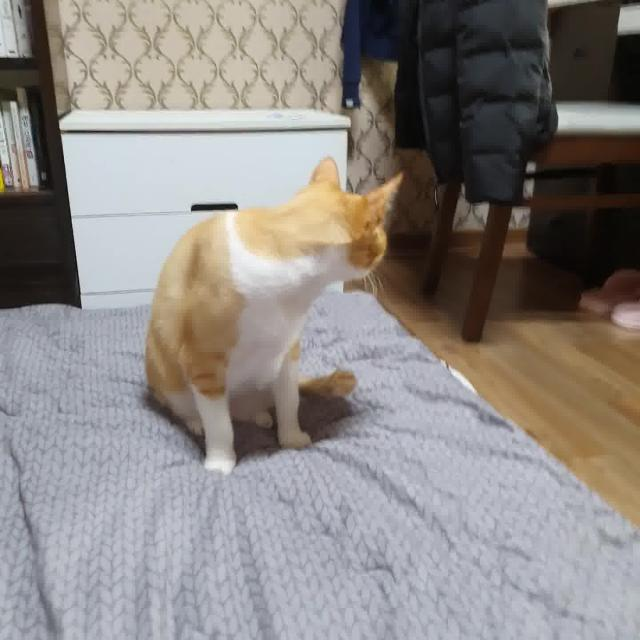cat: (137, 151, 416, 480)
